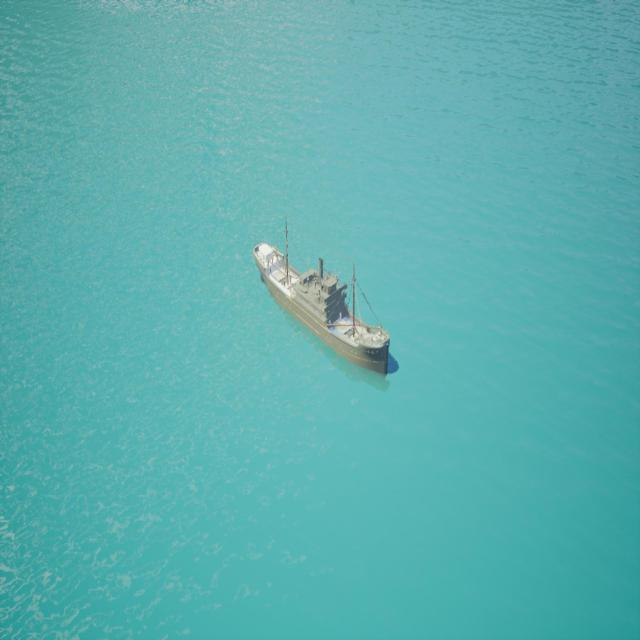fishing ship: (253, 242, 395, 378)
